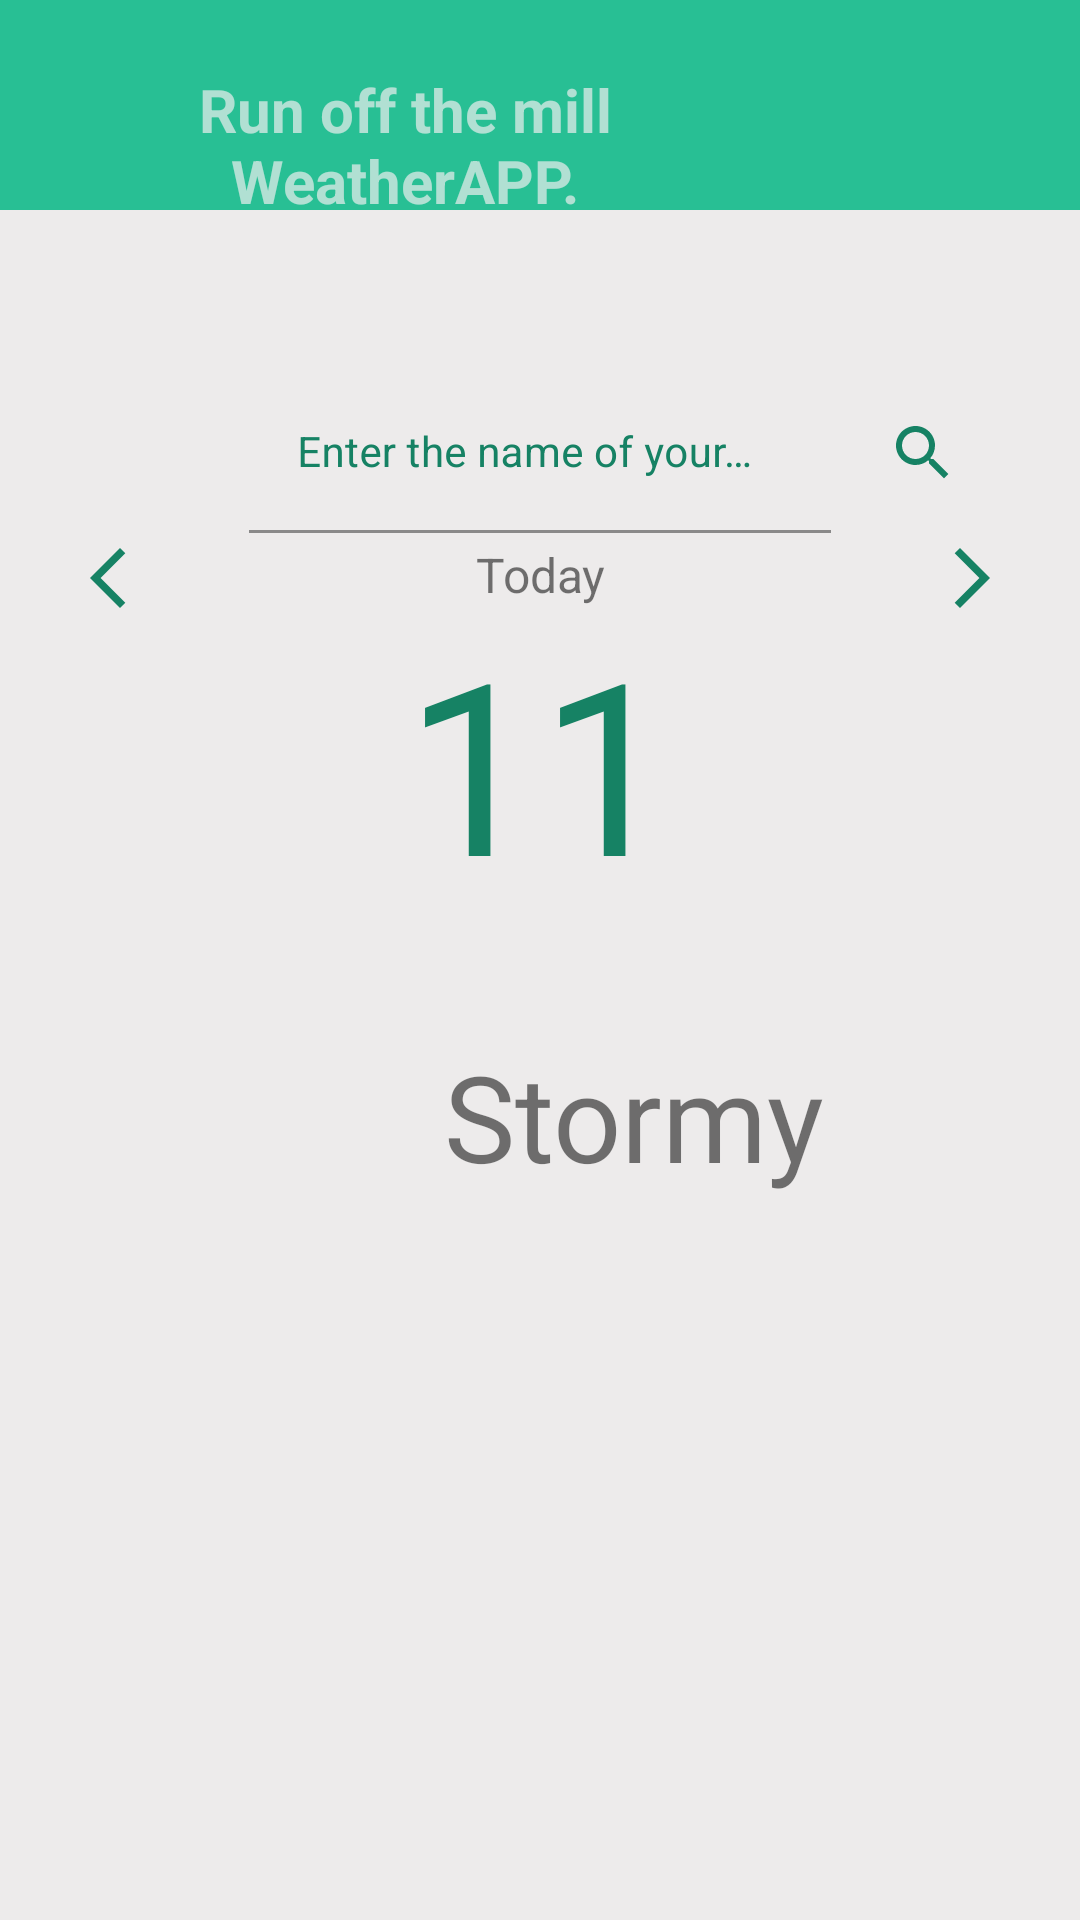

Where icons sit on this 1080px x 1920px app screen, as (x1, y1, x2, y2):
arrow back: (90, 548, 125, 608)
arrow forward: (955, 548, 990, 608)
search: (896, 426, 948, 478)
